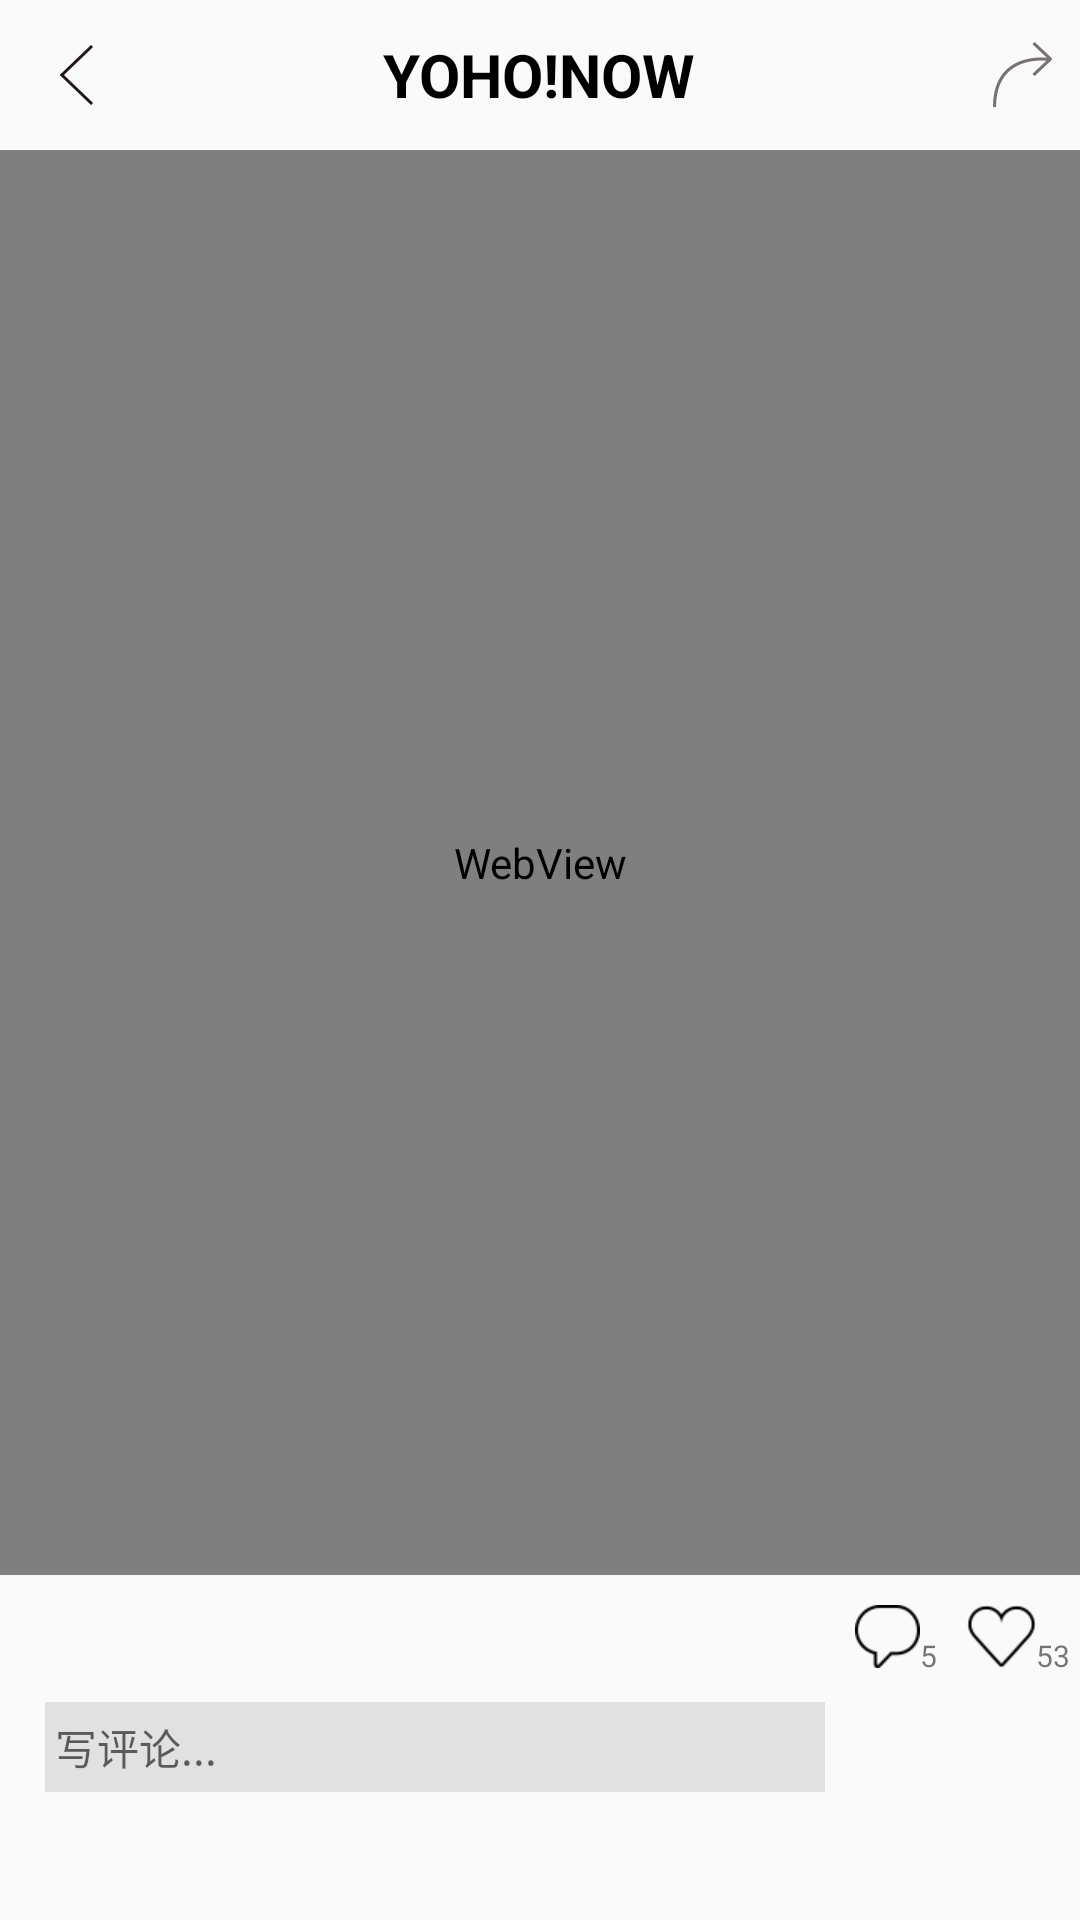

Icons on this 1080 x 1920 Android screen, each with the point to tap as point (x, y):
back: point (76, 75)
comment: point (887, 1636)
love: point (1001, 1636)
share focus: point (1022, 74)
